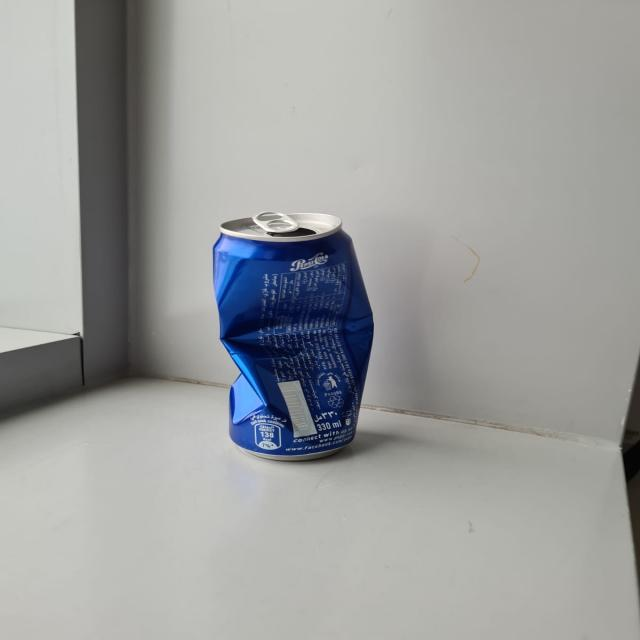non-organic waste: (209, 208, 384, 468)
